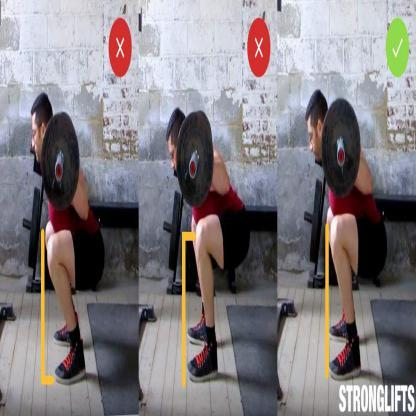Barbell: (337, 143, 347, 170), (55, 161, 66, 185), (189, 157, 199, 183)
